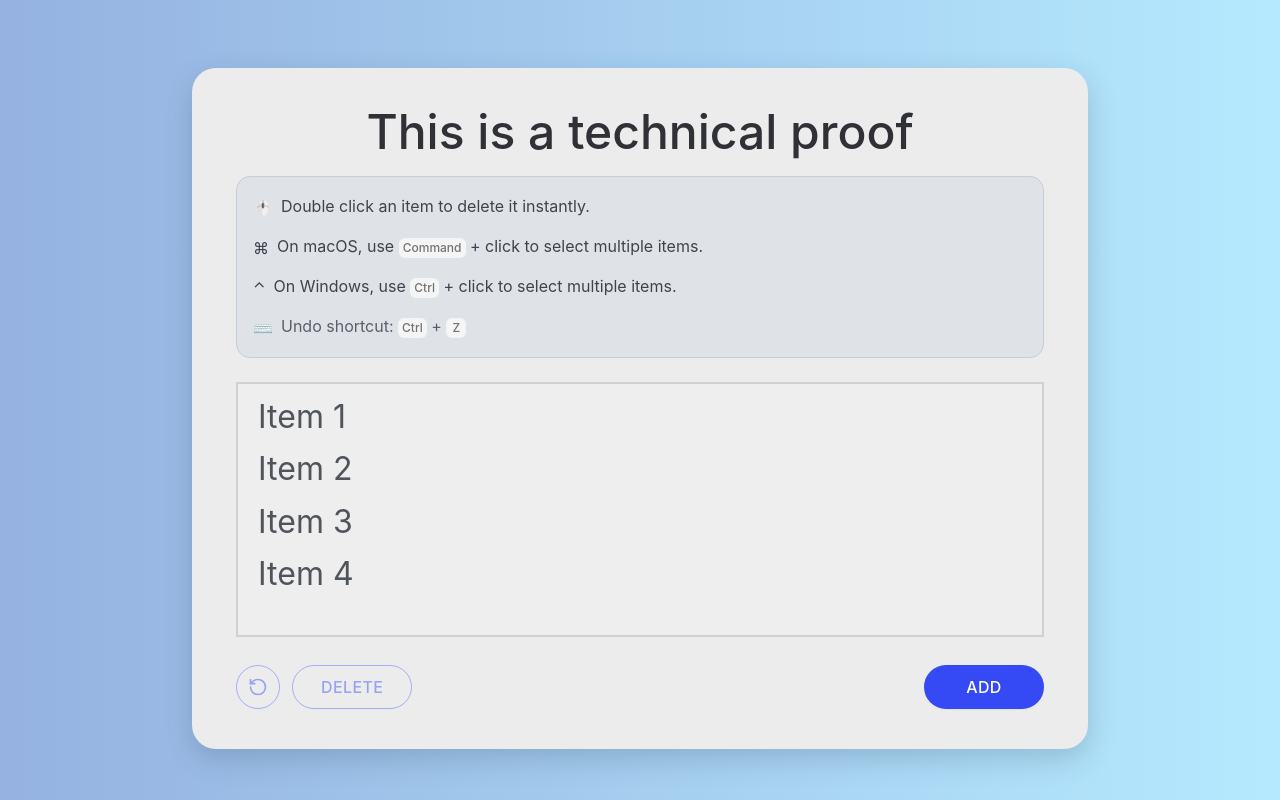
Test case: React list app › adds a new item from the dialog
Click the button "Add".
click(984, 686)  # box [924,664,1044,708]
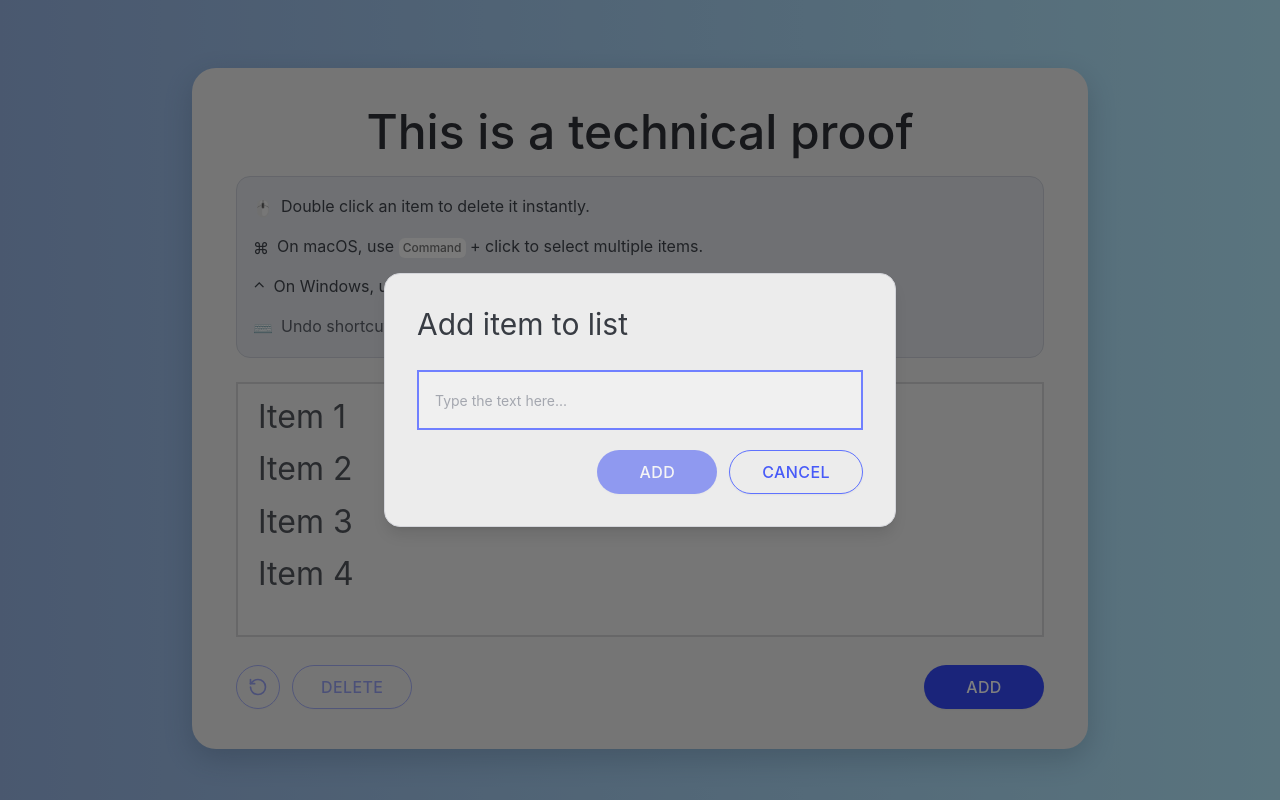
Type "New task" into the field with placeholder "Type the text here...".
click(640, 400); type("New task")  # box [417,370,863,430]
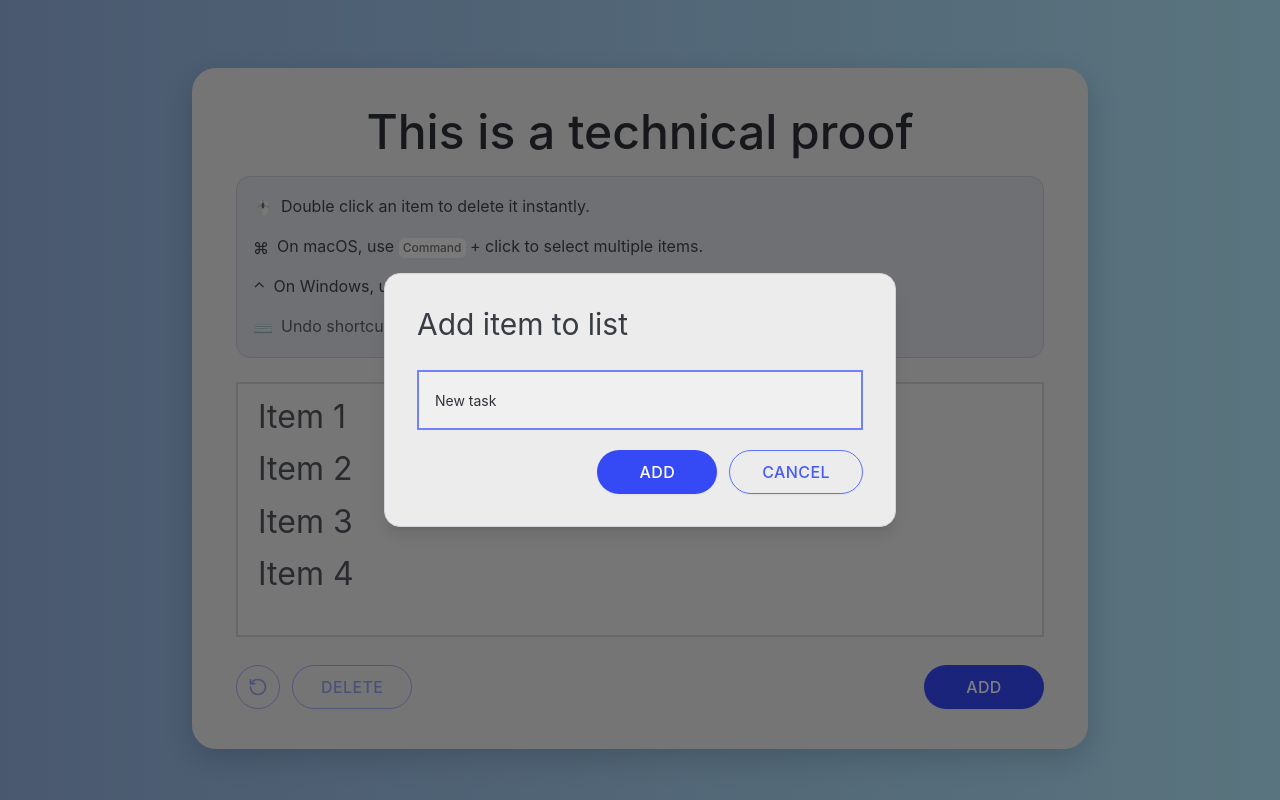
Click the button "Add".
click(657, 472)  # box [597,450,717,494]
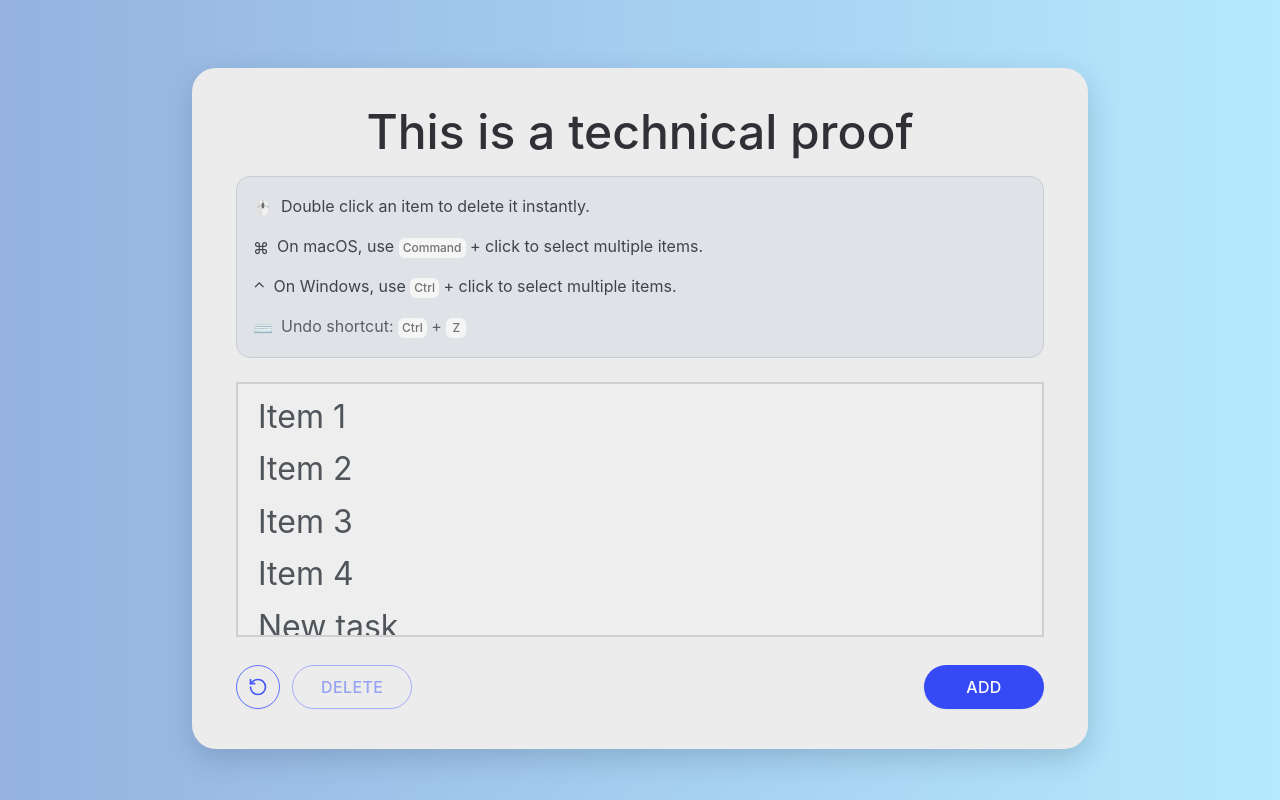
Result: the list item "New task" is shown at [246,602,1034,636]
